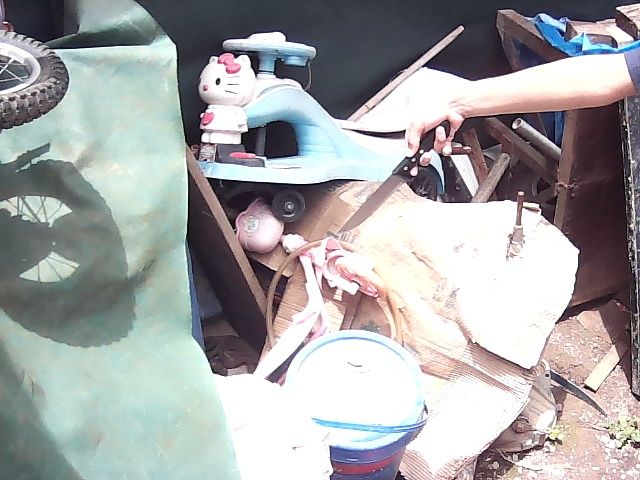cuchillo: (335, 150, 420, 238)
